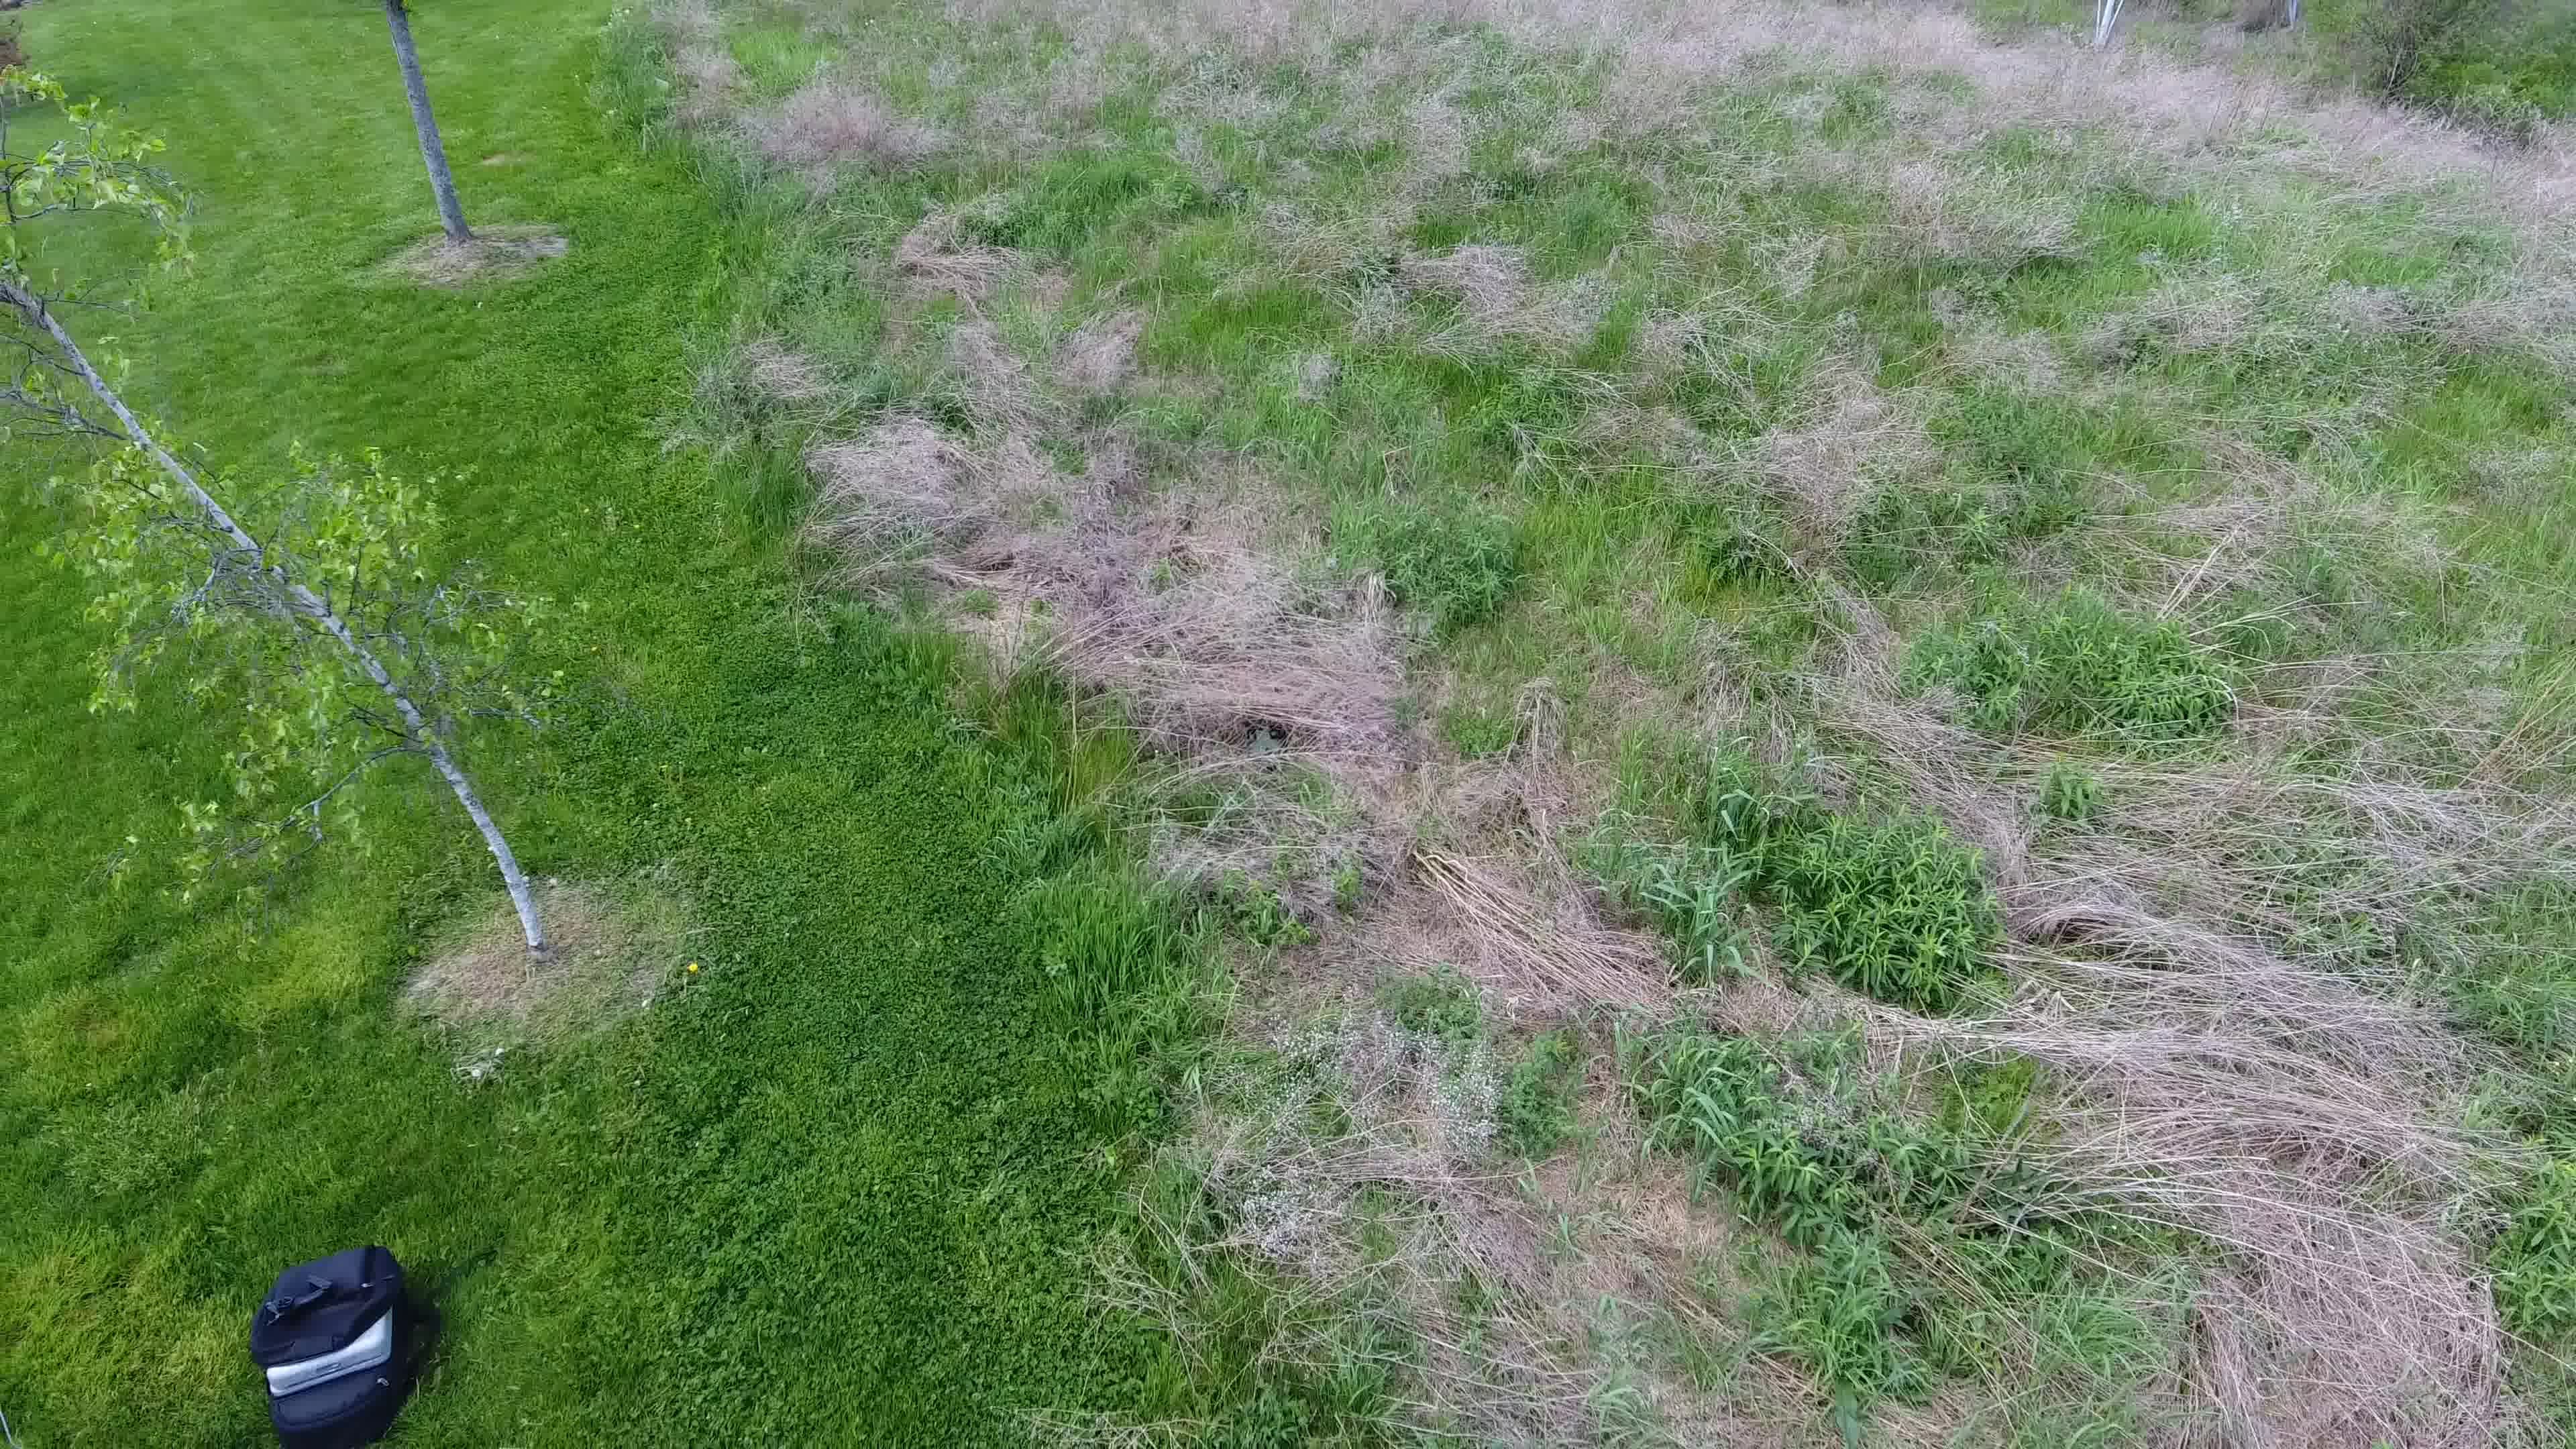transporter9: (1240, 725, 1288, 754)
